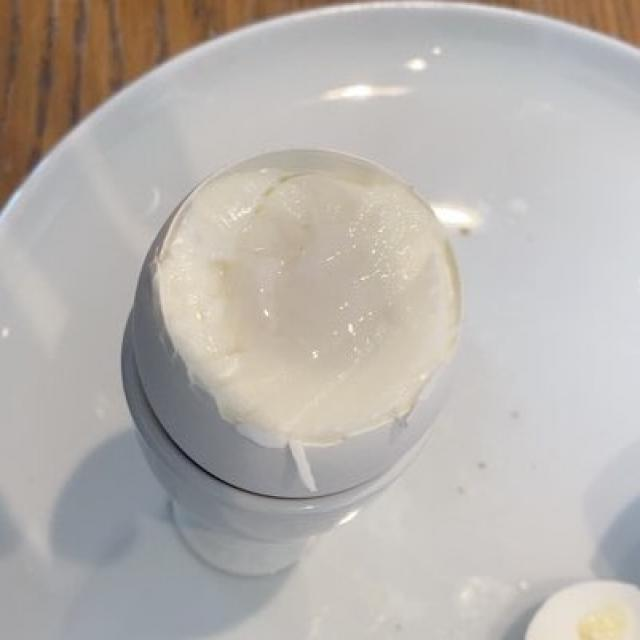egg: (146, 164, 446, 503)
